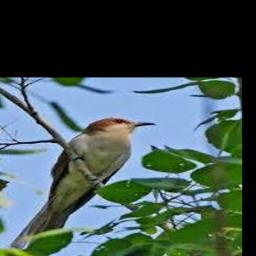Cuckoo: (8, 117, 157, 256)
